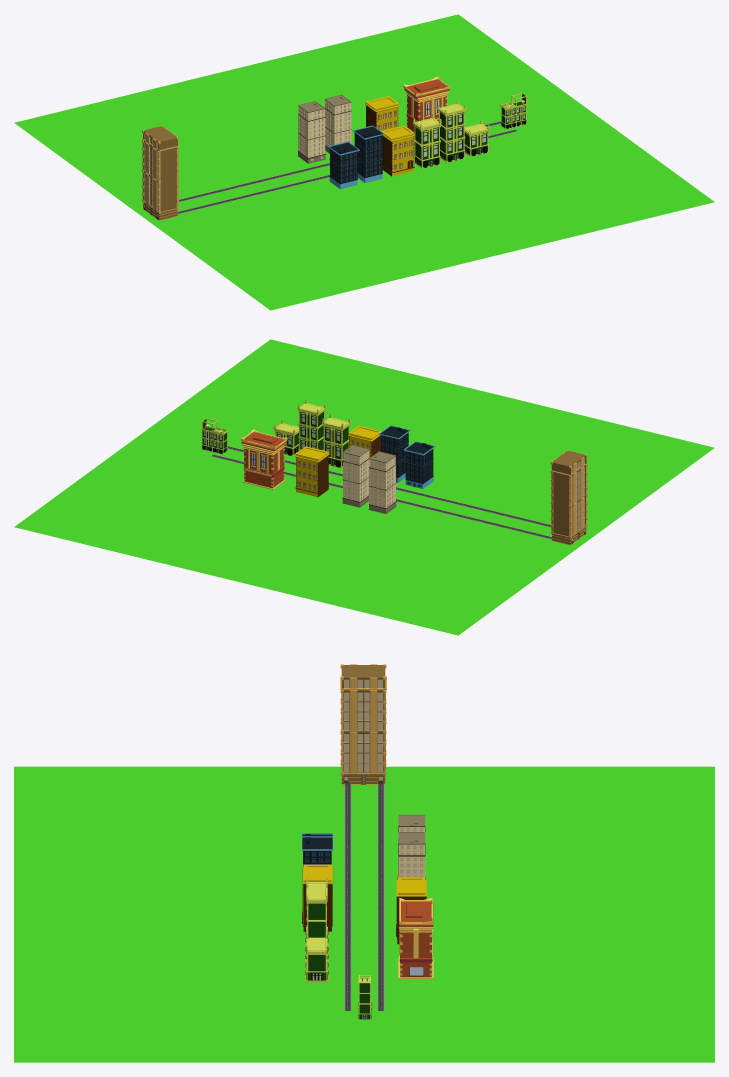
Rendered from TestCity.fbx.
3 views of the same model, one above another, from view 1: azimuth 30°, elevation 25°; view 2: azimuth 150°, elevation 25°; view 3: azimuth 270°, elevation 25° (orthographic). The views are drawn at different scales.
Visible parts, largest first — view 1: Plane, GoldMiddle.003, GoldMiddle.002, Middle.004, YellowTop.002, Top.006, YellowTop.003, GoldBuildingTop.001, GreenTop.005, Road, Top.005, GreenTop.002 (+8 smaller); view 2: Plane, GoldMiddle.003, GoldMiddle.002, Middle.004, Road.002, YellowTop.002, Top.006, RedBase.002, GoldBuildingTop.001, Road, GreenTop.005, YellowTop.003 (+9 smaller); view 3: Plane, GoldMiddle.002, GoldMiddle.003, Road, Road.002, GoldBuildingTop.001, Top.006, Middle.004, Top.004, RedBase.002, YellowTop.002, GreenTop.003 (+4 smaller).
Part boxes in pixels (bbox=[...]): Plane: bbox=[14, 14, 714, 310]; GoldMiddle.003: bbox=[142, 139, 178, 183]; GoldMiddle.002: bbox=[142, 170, 178, 213]; Middle.004: bbox=[406, 92, 447, 121]; YellowTop.002: bbox=[365, 96, 399, 122]; Top.006: bbox=[403, 76, 450, 100]; YellowTop.003: bbox=[381, 125, 414, 151]; GoldBuildingTop.001: bbox=[142, 125, 178, 151]; GreenTop.005: bbox=[413, 114, 441, 144]; Road: bbox=[177, 129, 517, 214]; Top.005: bbox=[328, 141, 359, 166]; GreenTop.002: bbox=[437, 100, 466, 127]; Plane: bbox=[14, 339, 714, 635]; GoldMiddle.003: bbox=[550, 464, 587, 507]; GoldMiddle.002: bbox=[550, 494, 587, 538]; Middle.004: bbox=[243, 445, 284, 473]; Road.002: bbox=[211, 454, 551, 539]; YellowTop.002: bbox=[295, 446, 329, 472]; Top.006: bbox=[241, 429, 287, 452]; RedBase.002: bbox=[242, 466, 285, 489]; GoldBuildingTop.001: bbox=[550, 450, 587, 475]; Road: bbox=[227, 446, 551, 527]; GreenTop.005: bbox=[322, 413, 350, 444]; YellowTop.003: bbox=[348, 425, 381, 451]; Plane: bbox=[14, 766, 714, 1062]; GoldMiddle.002: bbox=[340, 731, 386, 775]; GoldMiddle.003: bbox=[340, 690, 386, 733]; Road: bbox=[344, 783, 351, 1010]; Road.002: bbox=[377, 783, 384, 1010]; GoldBuildingTop.001: bbox=[340, 664, 386, 689]; Top.006: bbox=[399, 897, 433, 928]; Middle.004: bbox=[399, 929, 432, 958]; Top.004: bbox=[301, 836, 333, 863]; RedBase.002: bbox=[398, 941, 433, 978]; YellowTop.002: bbox=[396, 877, 426, 910]; GreenTop.003: bbox=[306, 933, 327, 971].
Bounding box in the file's own units: 64705 × 11006 × 64705.
